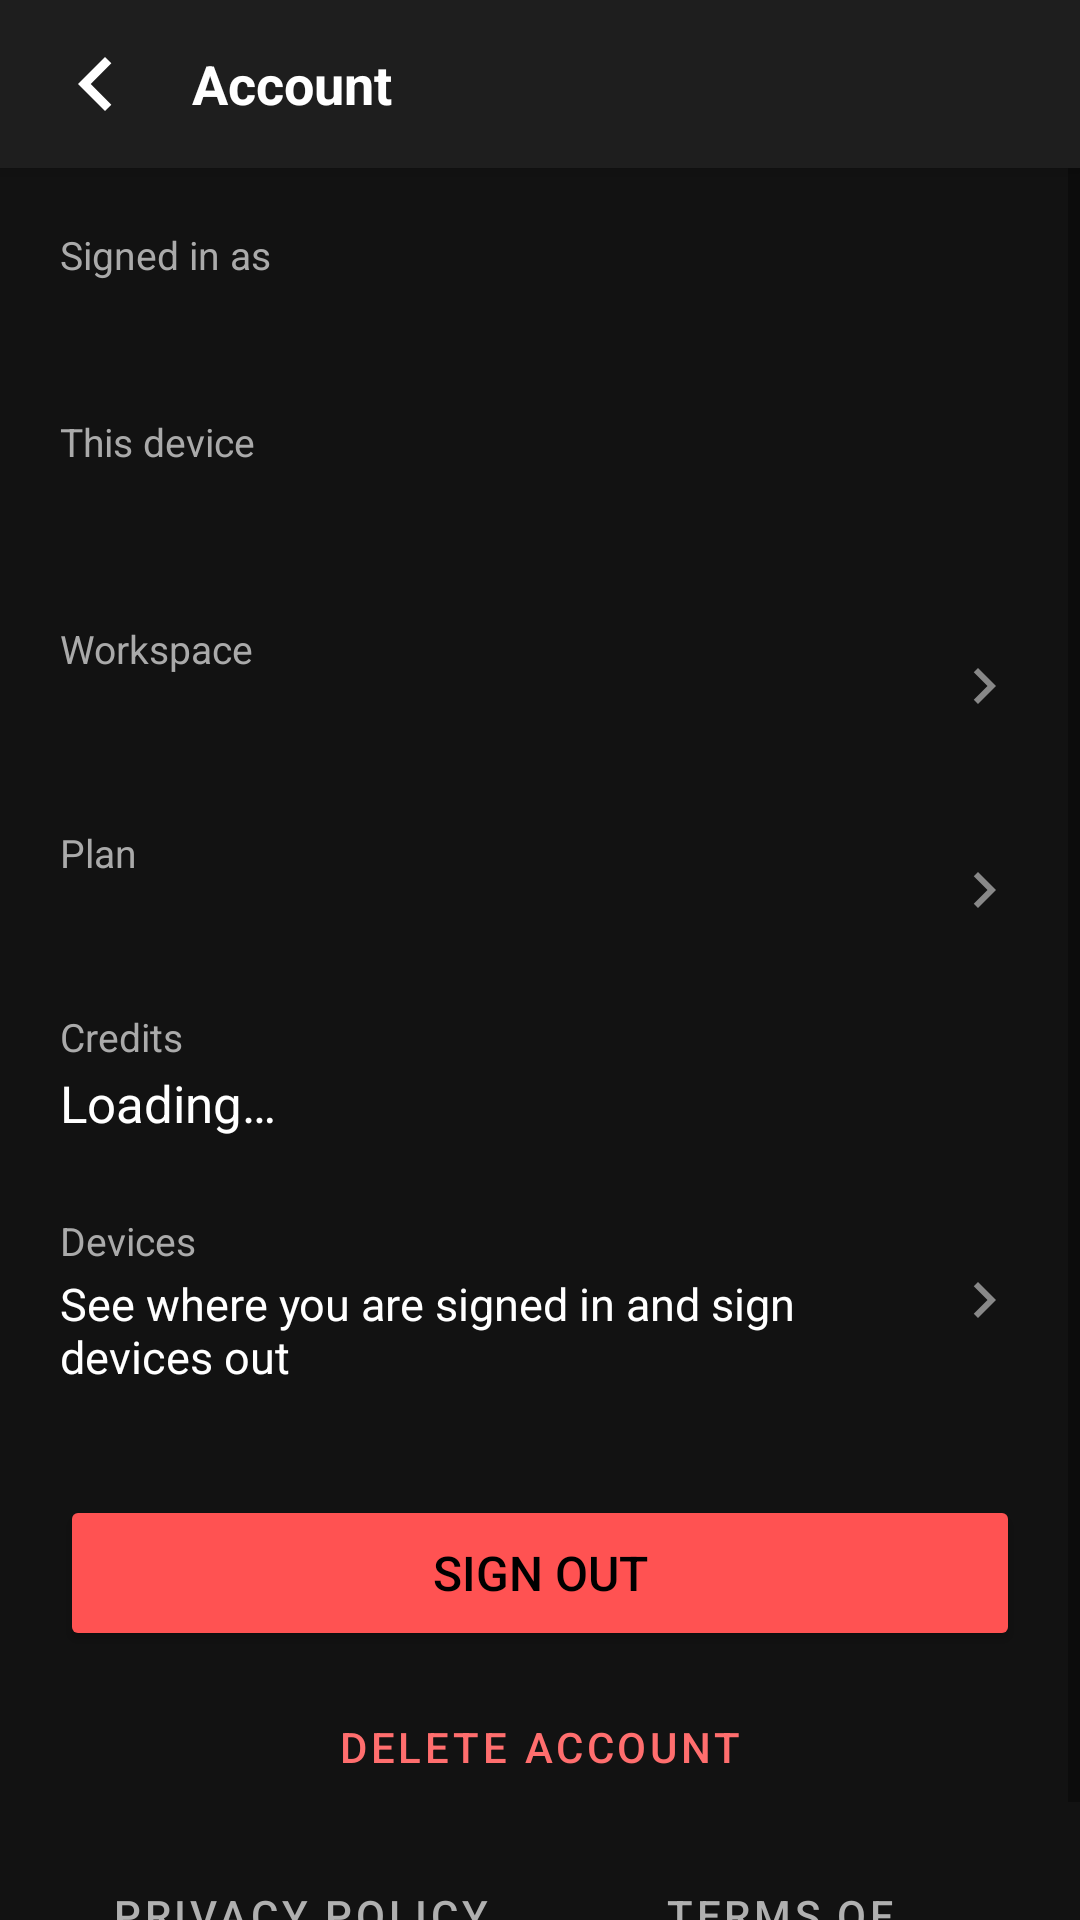

Icons on this 1080*1920 Android screen, each with its box as region(x1, y1, x2, y2):
Back: region(78, 57, 112, 111)
chevron right: region(974, 668, 996, 704), region(974, 872, 996, 908), region(974, 1282, 996, 1318)
